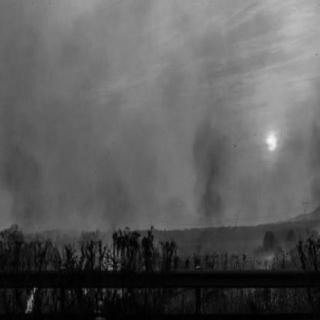Fire: (20, 283, 42, 314)
Smoke: (187, 114, 229, 232)
